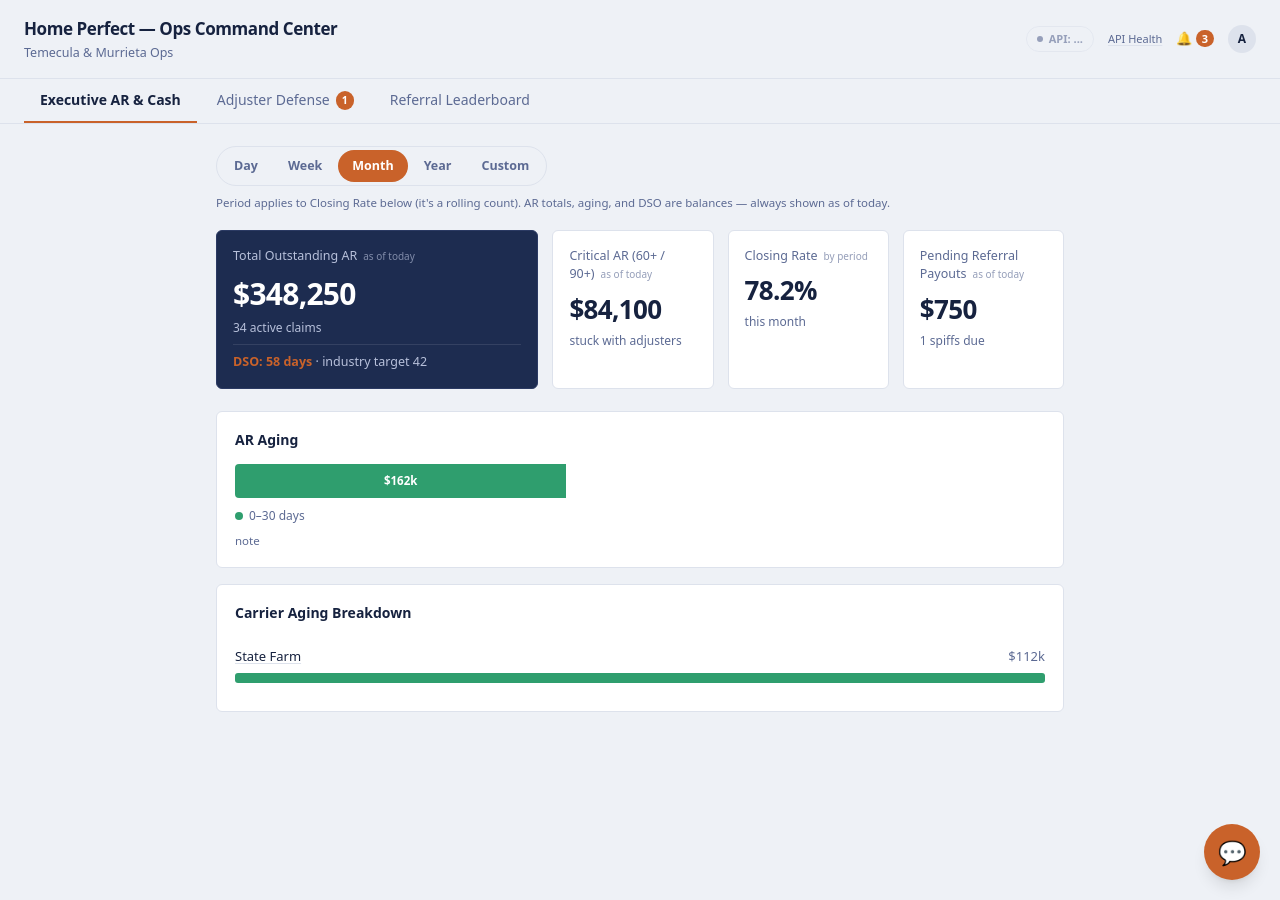
DashboardShell › renders the floating chat assistant
The width and height of the screenshot is (1280, 900).
Click the button named "AI assistant" at (1232, 852), box [1204, 824, 1260, 880]
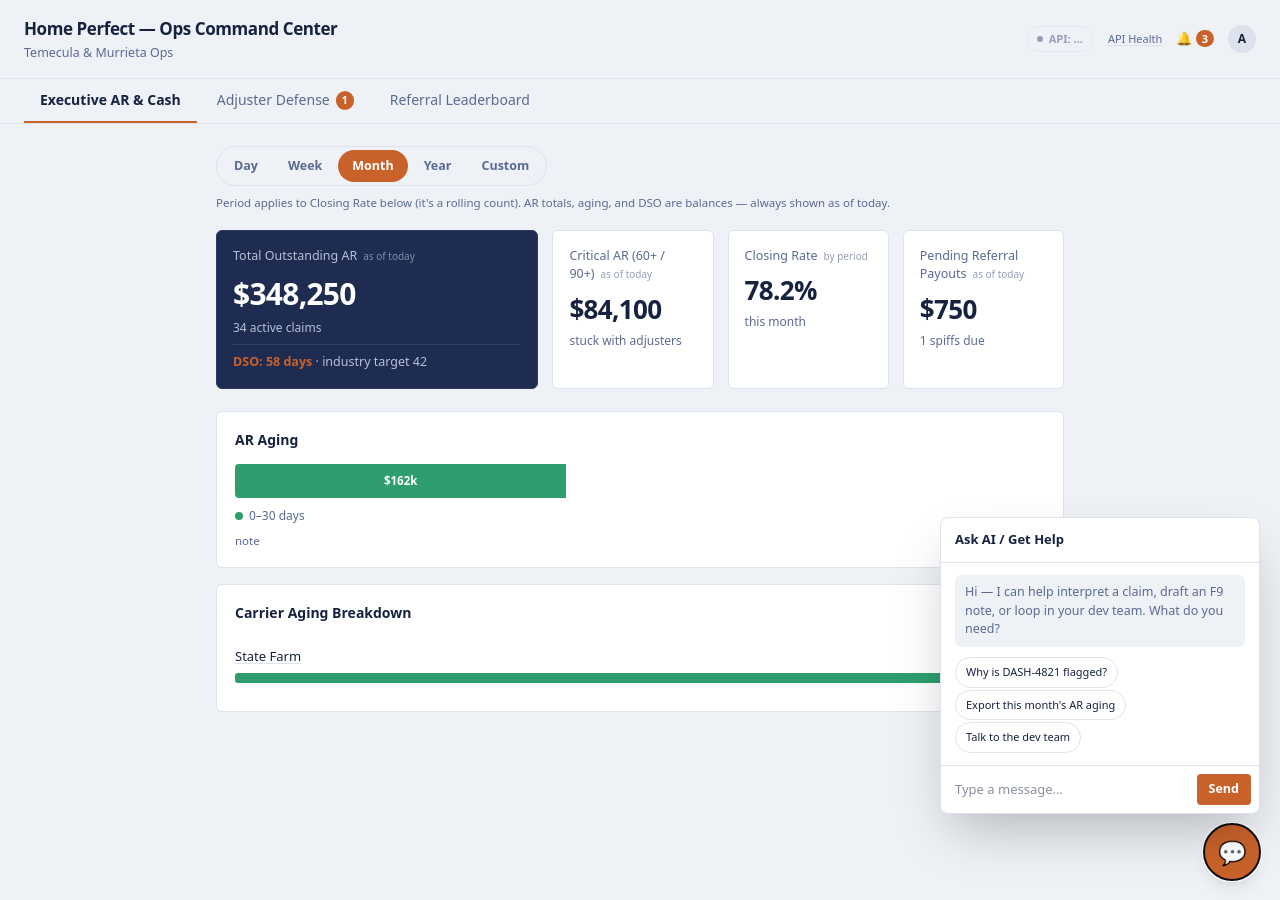
Expected: the text "Ask AI / Get Help" is shown, [941, 518, 1259, 563]
